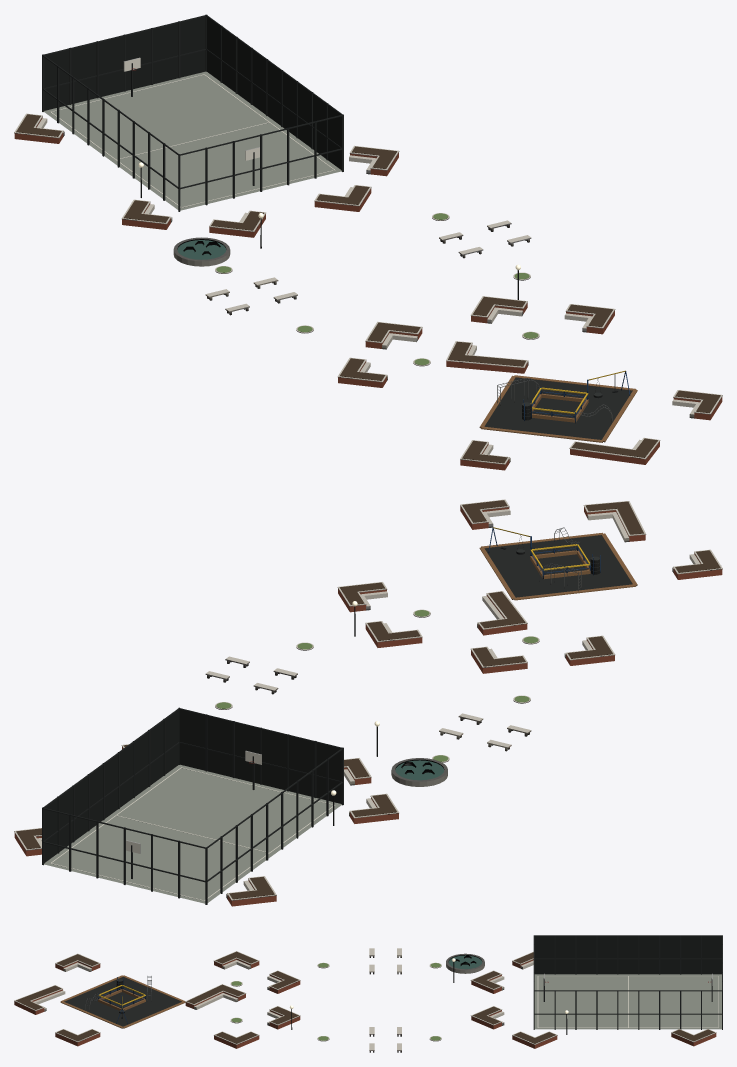
File: SM_Courtyard.glb
The picture shows the model from 3 angles, top to bottom: view 1: azimuth 30°, elevation 25°; view 2: azimuth 150°, elevation 25°; view 3: azimuth 270°, elevation 25°; orthographic projection. The views are drawn at different scales.
Visible parts, largest first — view 1: SM_Courtyard_LM, SM_Courtyard_VC; view 2: SM_Courtyard_LM, SM_Courtyard_VC; view 3: SM_Courtyard_LM, SM_Courtyard_VC.
Part boxes in pixels (x1,y1,x2,y2): SM_Courtyard_LM: (14,15,722,470); SM_Courtyard_VC: (14,14,722,464); SM_Courtyard_LM: (14,499,722,906); SM_Courtyard_VC: (14,502,722,900); SM_Courtyard_LM: (14,935,722,1050); SM_Courtyard_VC: (14,935,722,1052).
Bounding box in the file's own units: 33.3 × 6.01 × 97.94.
